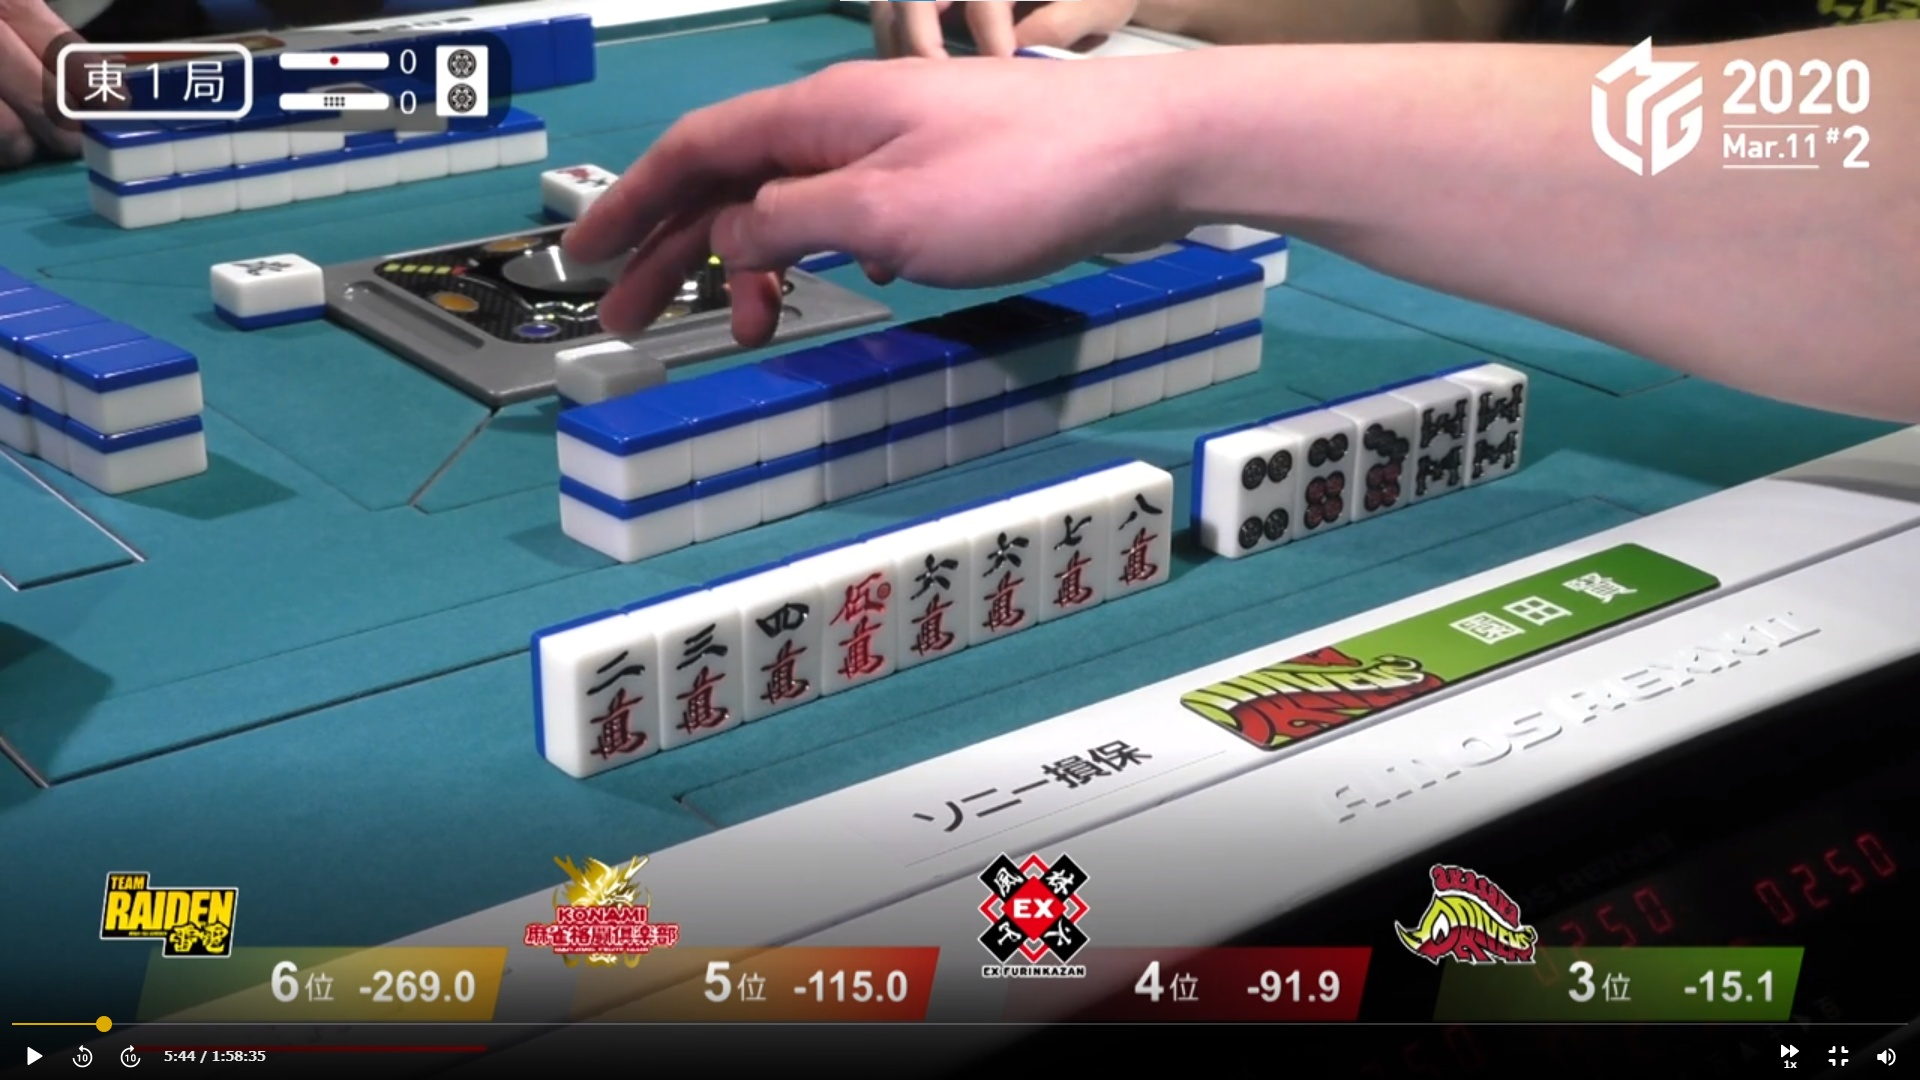2m: (545, 626, 653, 764)
3m: (662, 616, 736, 737)
4m: (738, 574, 818, 715)
4p: (1205, 433, 1294, 550)
5mr: (823, 545, 891, 690)
6m: (963, 500, 1034, 646), (891, 525, 963, 662)
6p: (1294, 411, 1353, 534)
7m: (1038, 483, 1098, 621)
7p: (1360, 384, 1408, 513)
8m: (1100, 465, 1163, 596)
8p: (1468, 357, 1522, 479), (1412, 375, 1461, 495)
hand_ton_1: (47, 33, 252, 115)
round_0: (268, 80, 419, 116)
team_drivens: (1171, 622, 1453, 748)
